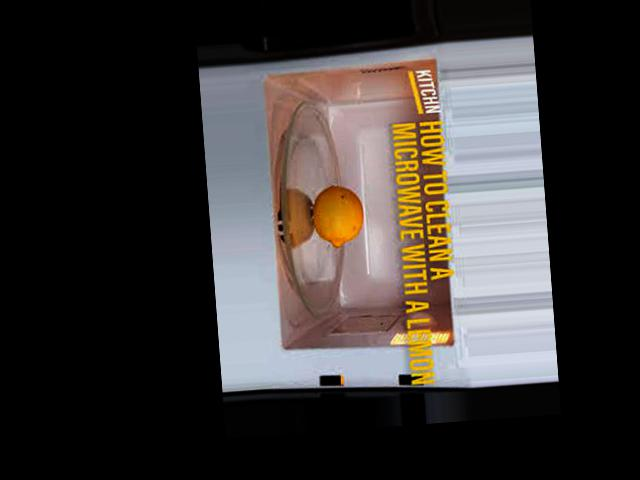lemon: (304, 179, 371, 257)
